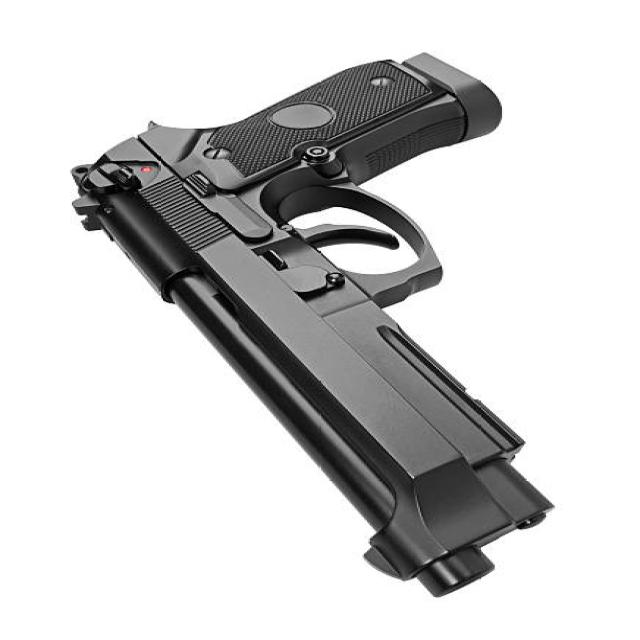pistol: (59, 46, 564, 611)
